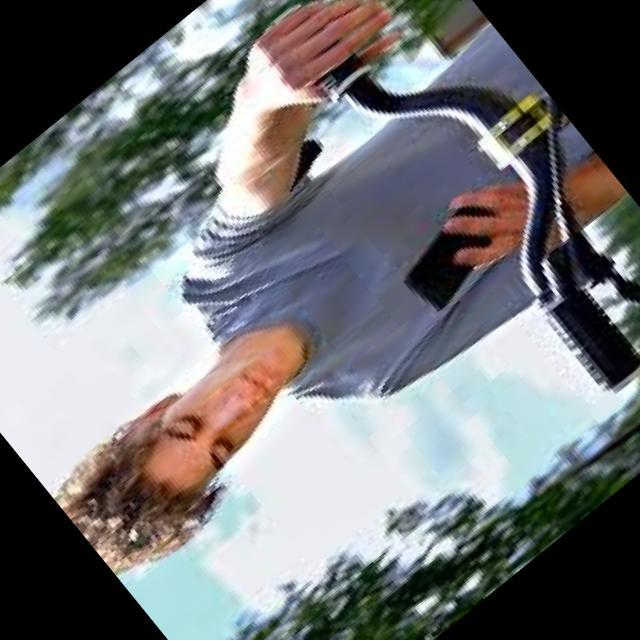USING_MOBILE: (48, 144, 560, 594)
